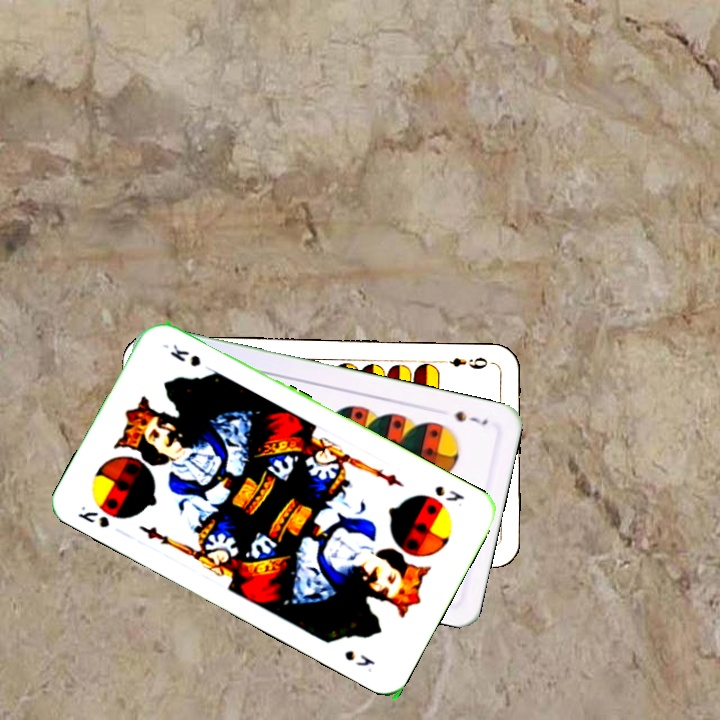E9: (437, 353, 490, 371)
S7: (451, 407, 491, 428)
SK: (73, 502, 112, 531), (430, 481, 467, 504)
